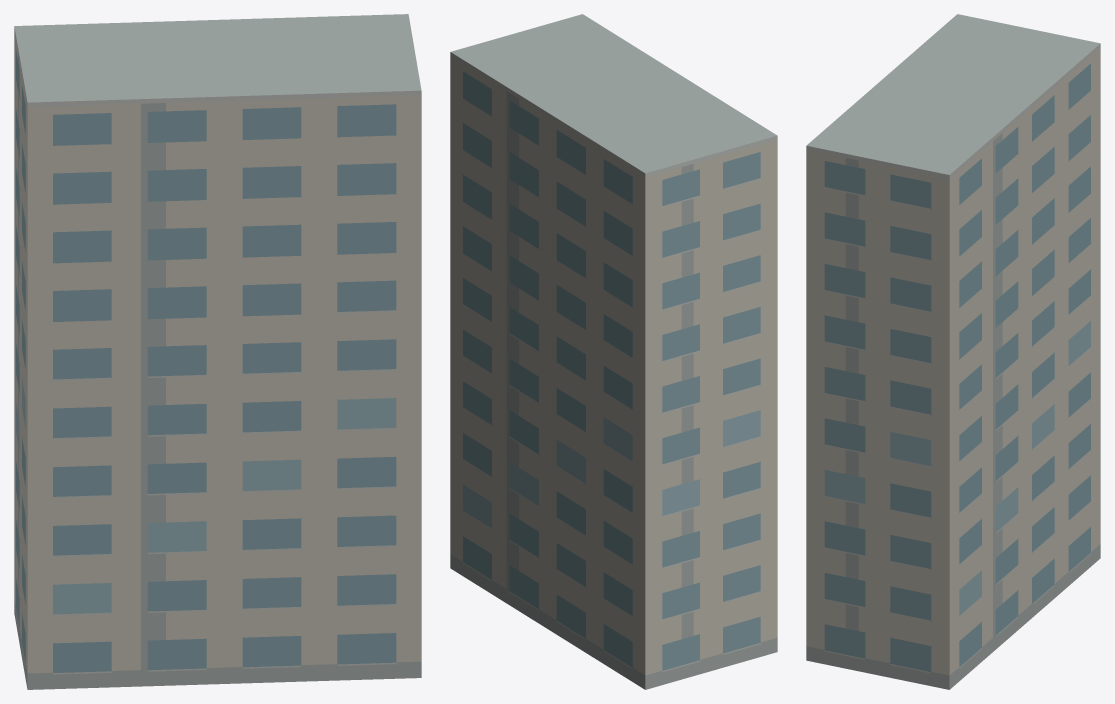
The model's file is residential-b432ce51-38ba-4e9b-bf95-216c393b797b.glb.
3 views of the same model, side by side, from view 1: azimuth 30°, elevation 25°; view 2: azimuth 150°, elevation 25°; view 3: azimuth 270°, elevation 25° (orthographic). The views are drawn at different scales.
Parts seen in each view (by area): view 1: residential-b432ce51-38ba-4e9b-bf95-216c393b797b.tmp; view 2: residential-b432ce51-38ba-4e9b-bf95-216c393b797b.tmp; view 3: residential-b432ce51-38ba-4e9b-bf95-216c393b797b.tmp.
Part boxes in pixels (left/top/right/bottom): residential-b432ce51-38ba-4e9b-bf95-216c393b797b.tmp: left=14, top=14, right=421, bottom=689; residential-b432ce51-38ba-4e9b-bf95-216c393b797b.tmp: left=450, top=14, right=777, bottom=689; residential-b432ce51-38ba-4e9b-bf95-216c393b797b.tmp: left=806, top=14, right=1100, bottom=689.
Size of the model in its own units: 20.8 by 31 by 16.07.
